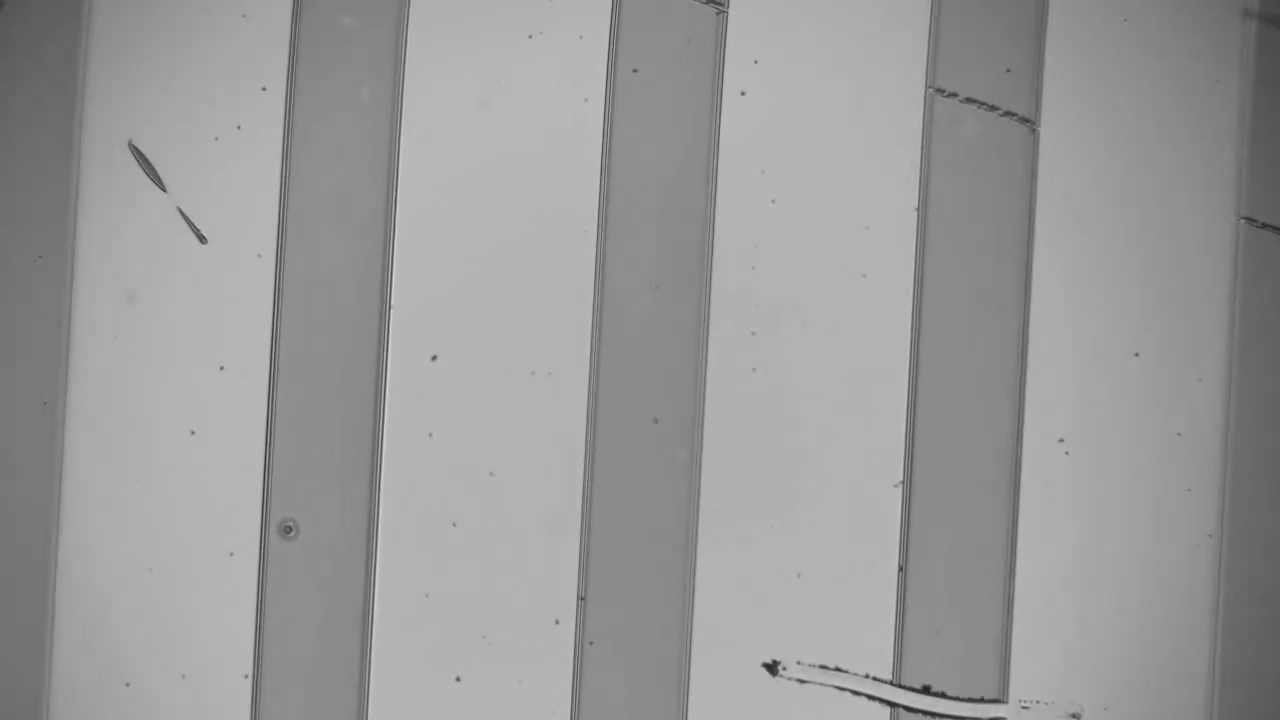Short_circuit: (861, 658, 1033, 720)
scratch: (937, 81, 1029, 128)
